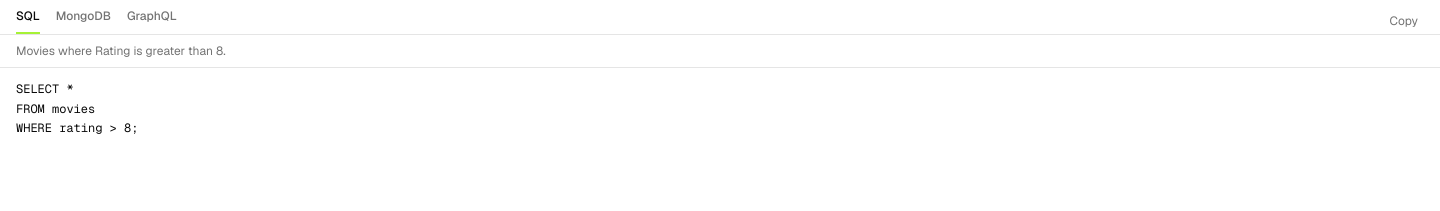
Test case: query preview › switches formats through the tabs
Click the button "MongoDB" at (83,21), box [56, 8, 111, 34]
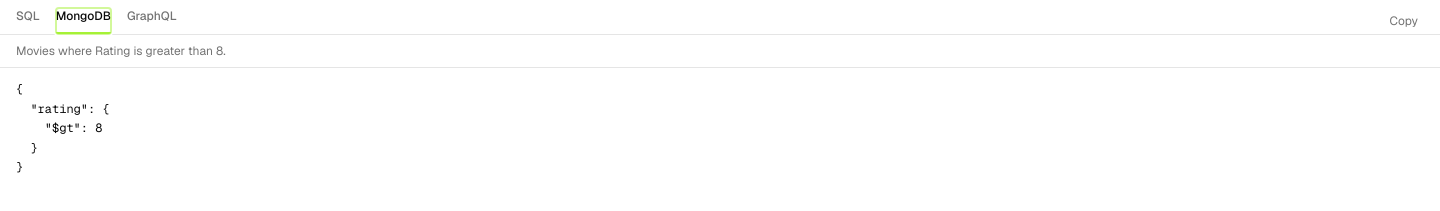
Check: the text "{ \"rating\": { \"$gt\": 8 } }" is shown, box [16, 81, 110, 175]
Click the button "GraphQL" at (152,21), box [127, 8, 177, 34]
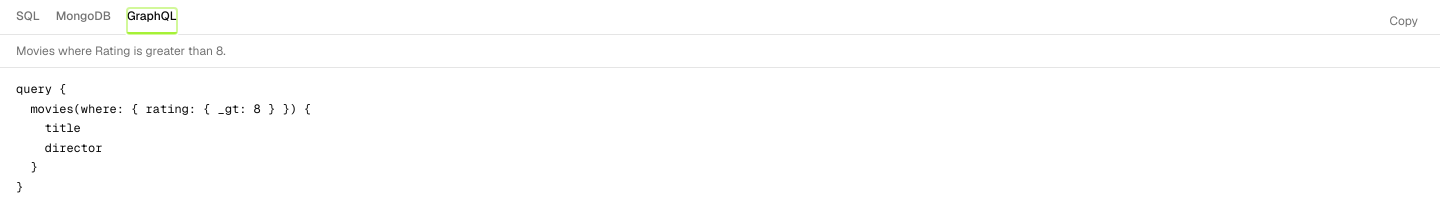
Check: the text "_gt: 8" is shown, box [16, 81, 311, 194]
